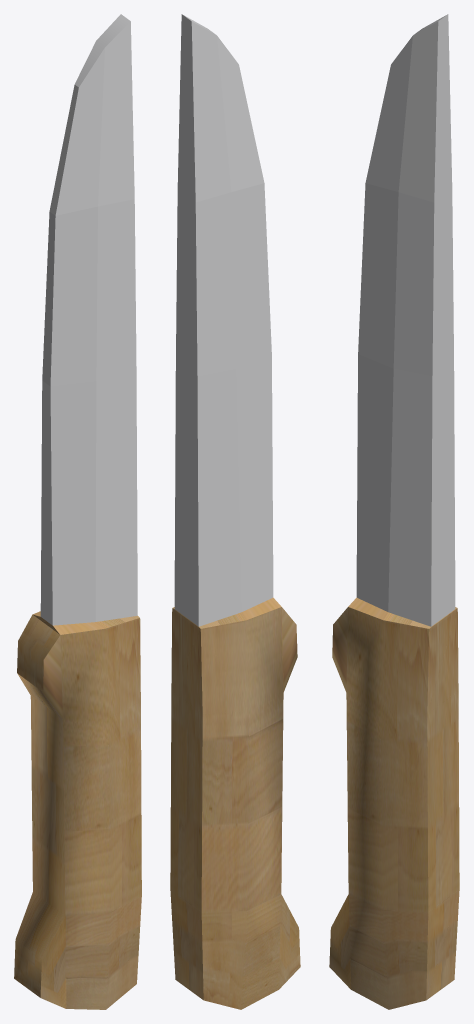
Rendered from Knife.fbx.
3 renders of one model, left to right at view 1: azimuth 30°, elevation 25°; view 2: azimuth 210°, elevation 25°; view 3: azimuth 330°, elevation 25°, orthographic.
Parts seen in each view (by area): view 1: Box001; view 2: Box001; view 3: Box001.
Boxes of the visible parts, bbox=[...] form: Box001: bbox=[14, 14, 141, 1009]; Box001: bbox=[170, 14, 300, 1009]; Box001: bbox=[329, 14, 459, 1009].
Bounding box in the file's own units: 2.03 × 1.6 × 18.97.
Materials: 2 (1 with a texture image).
